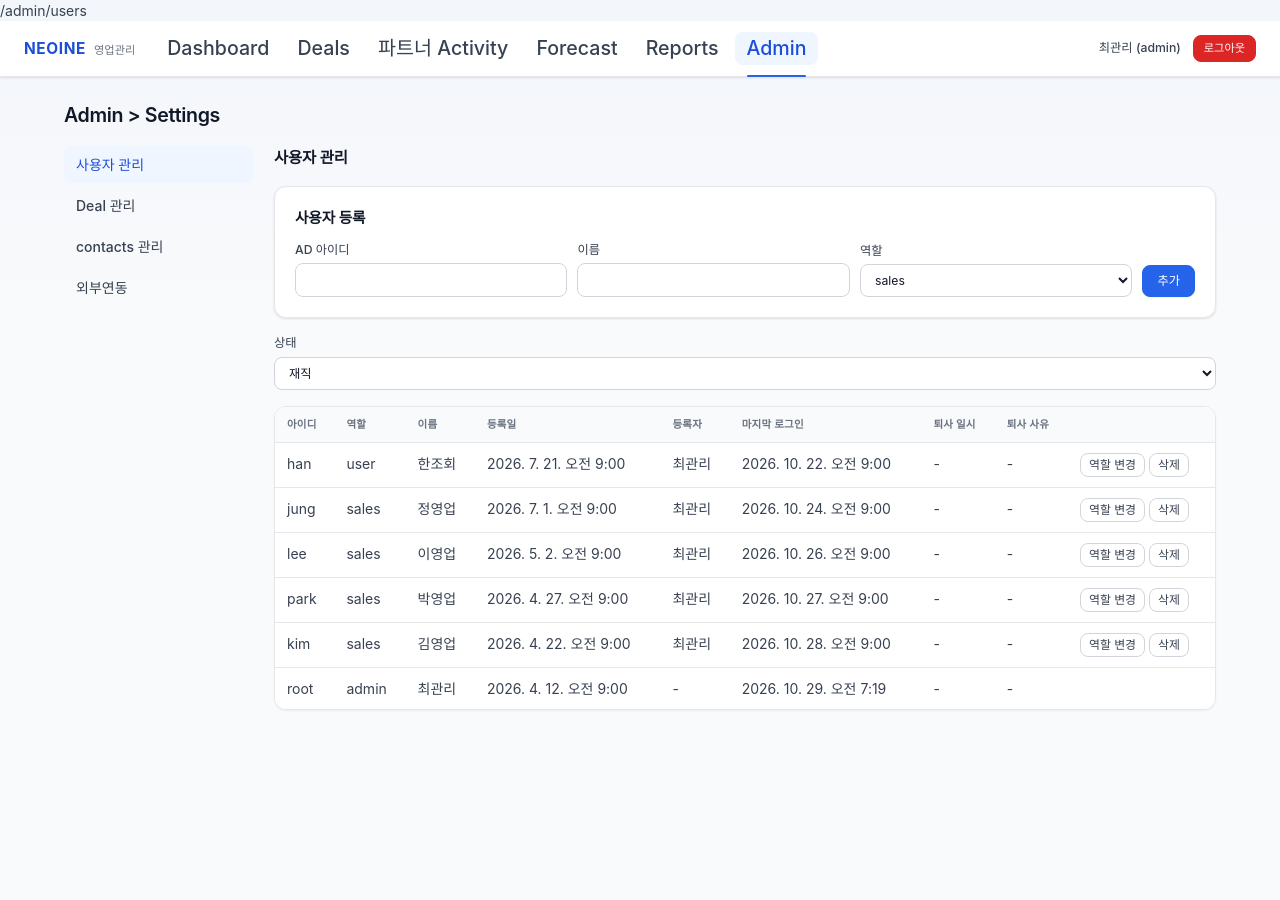
Scenario: 사용자 삭제·퇴사 (T-ADMIN-01) › does nothing when the confirmation is declined
Expected: the cell "kim" is shown, x1=275 y1=623 x2=334 y2=668
Step 1. Click the button "삭제" in the row of "kim" → {"x": 1169, "y": 645}, box x1=1149 y1=633 x2=1189 y2=657
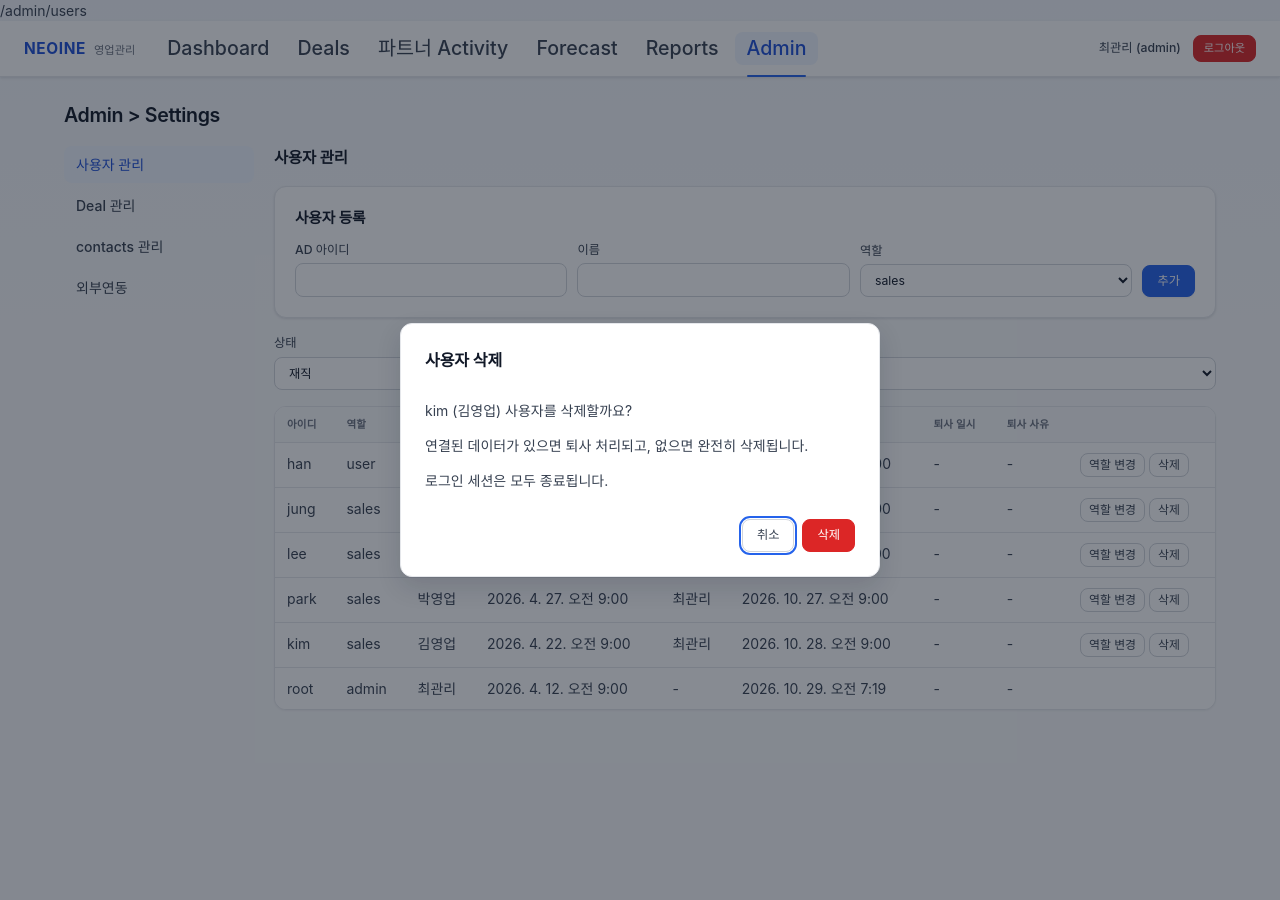
Expected: the text "연결된 데이터가 있으면 퇴사 처리되고, 없으면 완전히 삭제됩니다." is shown, x1=425 y1=435 x2=855 y2=456
Step 2. Click the button "취소" → {"x": 768, "y": 536}, box x1=742 y1=519 x2=794 y2=552
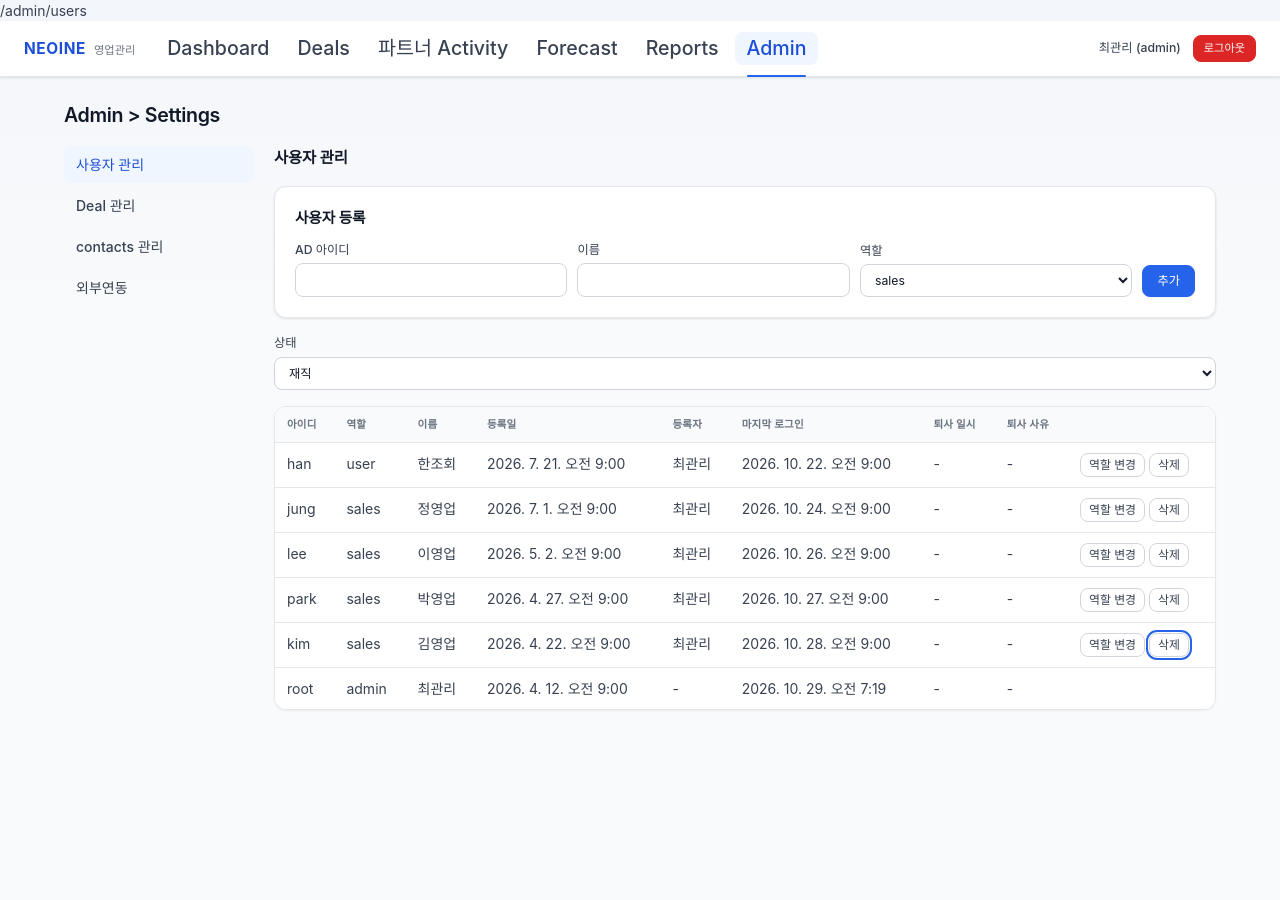
Expected: the cell "kim" is shown, x1=275 y1=623 x2=334 y2=668
Expected: the dialog is gone
